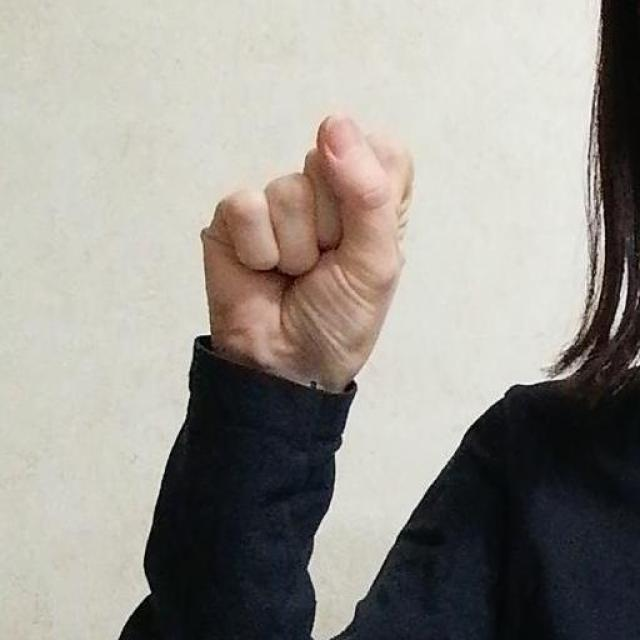hand: (199, 111, 415, 392)
